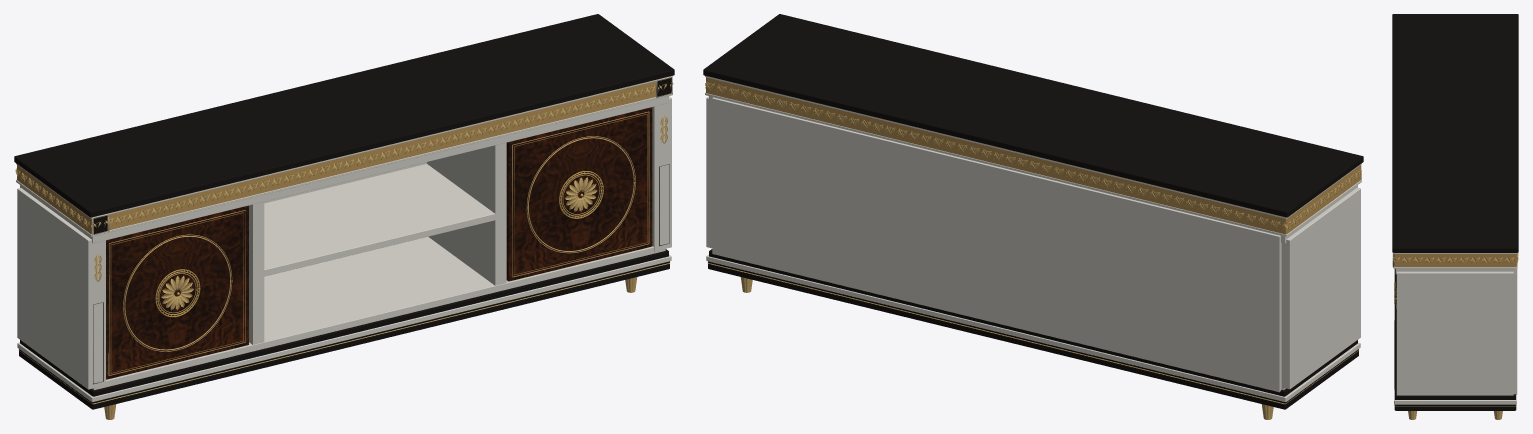
3 renders of one model, left to right at view 1: azimuth 30°, elevation 25°; view 2: azimuth 150°, elevation 25°; view 3: azimuth 270°, elevation 25°, orthographic. The views are drawn at different scales.
Visible parts, largest first — view 1: Wellington figured-timber TV furniture | media-20 web batch; view 2: Wellington figured-timber TV furniture | media-20 web batch; view 3: Wellington figured-timber TV furniture | media-20 web batch.
Part boxes in pixels (<box>): Wellington figured-timber TV furniture | media-20 web batch: <box>14,14,674,419</box>; Wellington figured-timber TV furniture | media-20 web batch: <box>703,14,1363,419</box>; Wellington figured-timber TV furniture | media-20 web batch: <box>1392,14,1518,419</box>.
Size of the model in its own units: 2.2 by 0.8 by 0.4999.
Materials: 6 (1 with a texture image).
